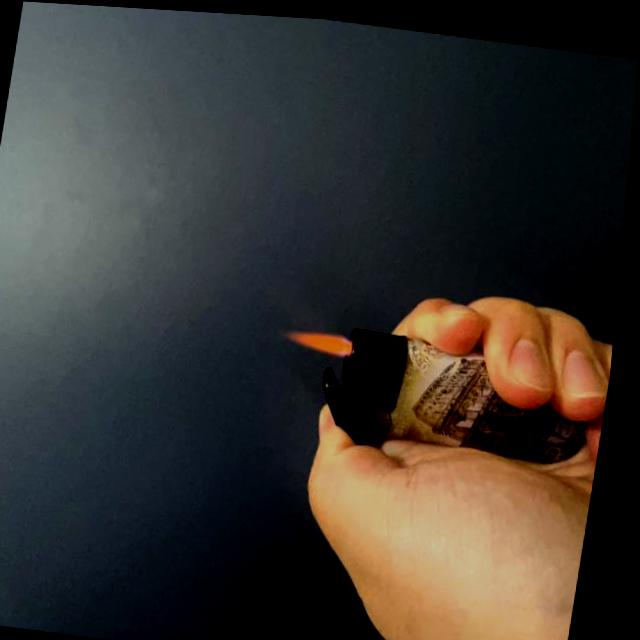helmet: (285, 320, 360, 355)
